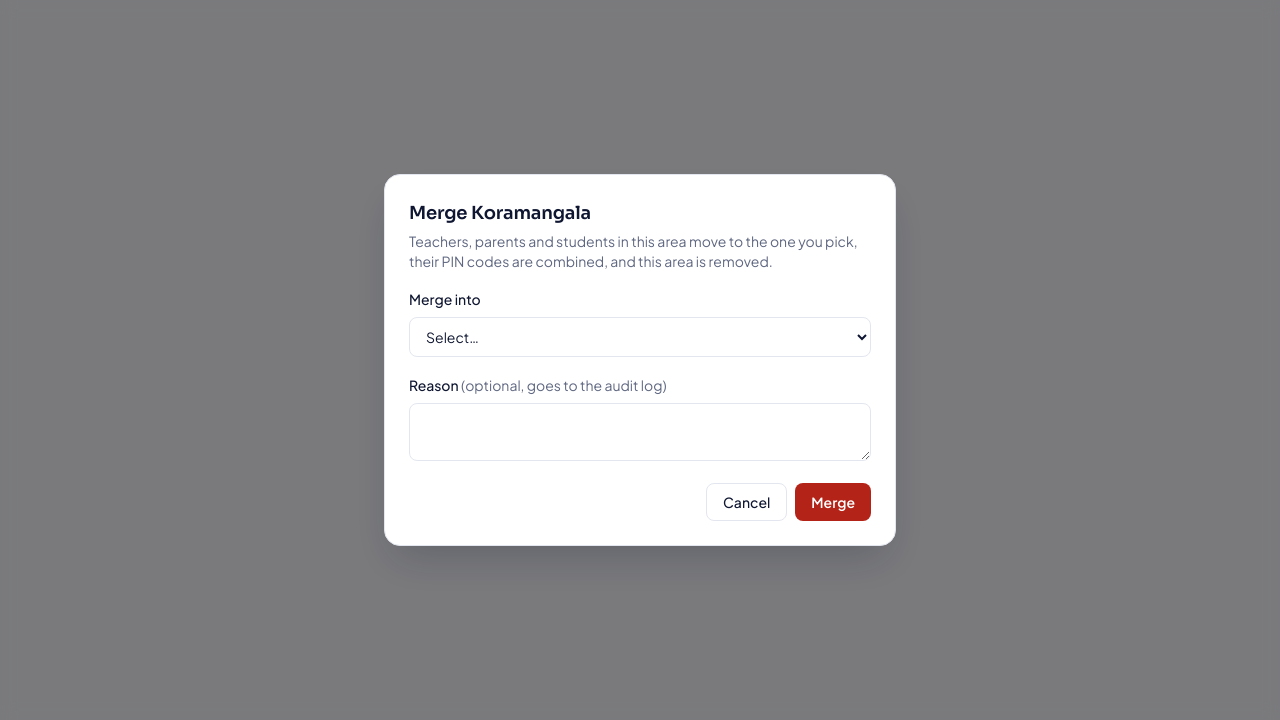
Test: MergeDialog › shows a problem with the target under the select
Select "HSR Layout" in the dropdown labelled "Merge into": (640, 337) 409,317 -> 871,357
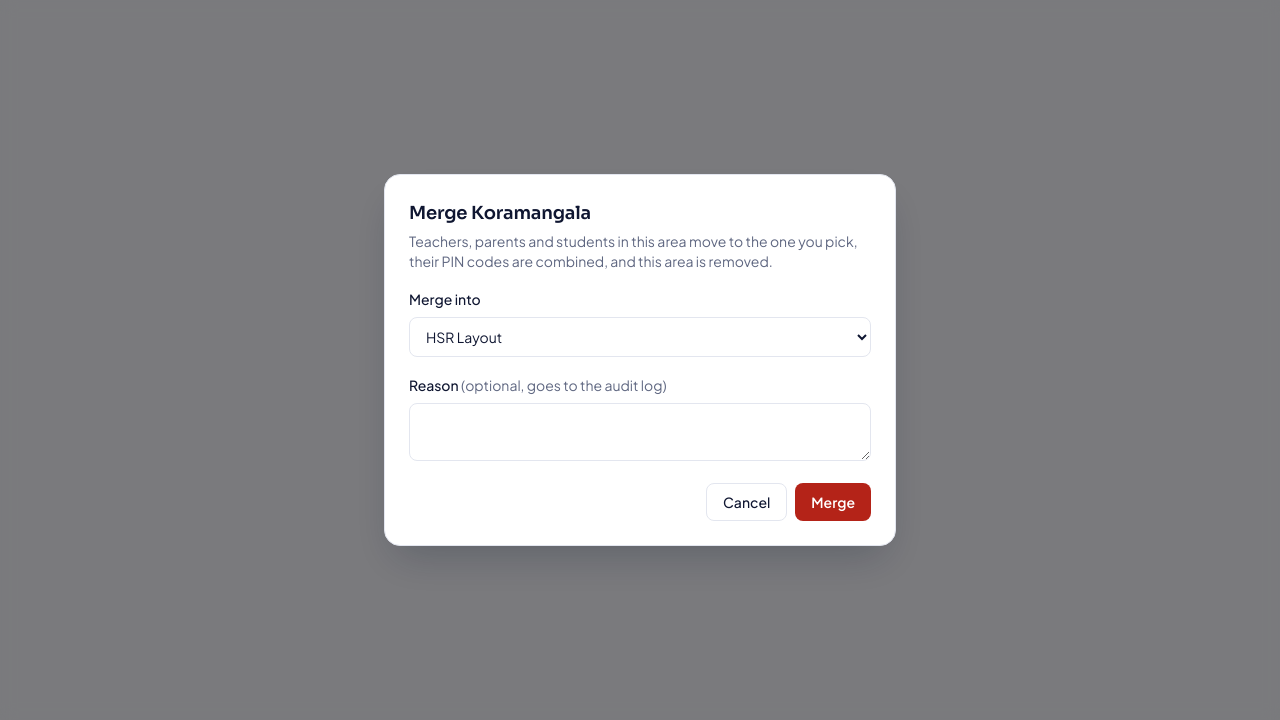
Click the button "Merge": (833, 502) 795,483 -> 871,521
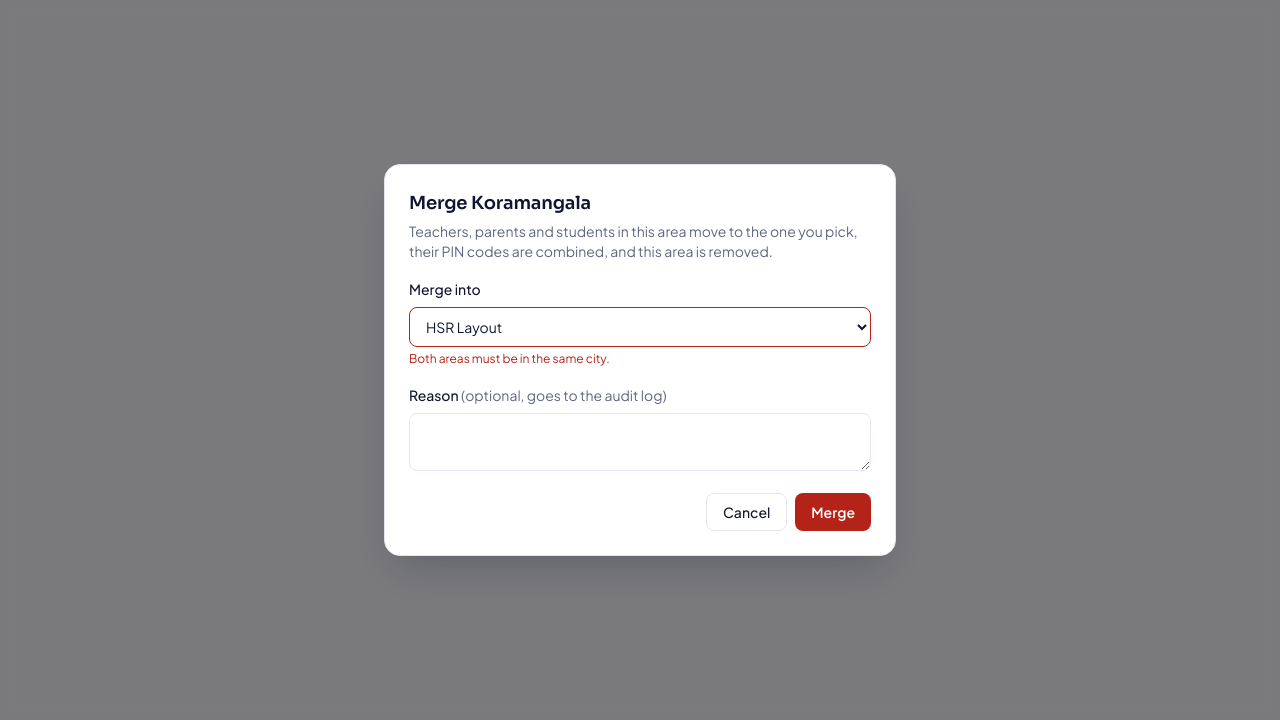
Expected: the button "Merge" is enabled, 795,493 -> 871,531
Expected: the text "Both areas must be in the same city." is shown, 409,351 -> 610,366
